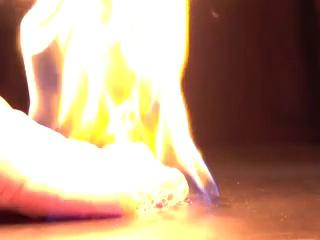Fire: (11, 1, 218, 209)
